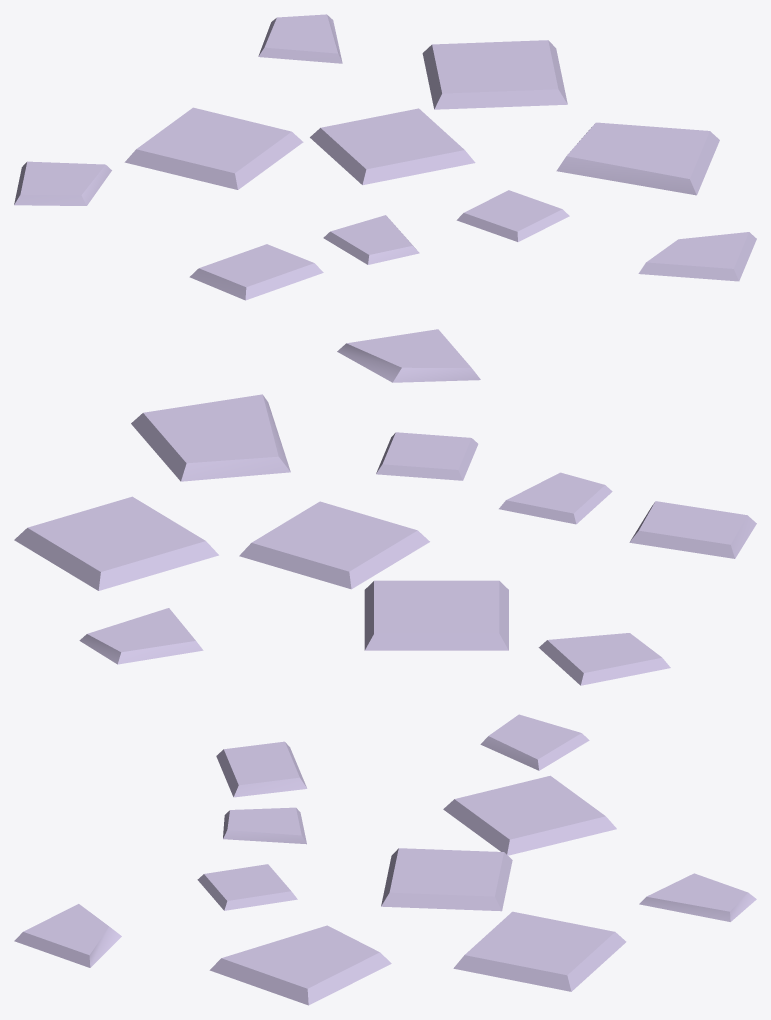
3 views of the same model, one above another, from view 1: azimuth 30°, elevation 25°; view 2: azimuth 150°, elevation 25°; view 3: azimuth 270°, elevation 25° (orthographic). The views are drawn at different scales.
Parts seen in each view (by area): view 1: Object14; view 2: Object14; view 3: Object14.
Part boxes in pixels (bbox=[...]): Object14: bbox=[14, 14, 756, 300]; Object14: bbox=[14, 329, 756, 685]; Object14: bbox=[14, 714, 756, 1005].
Bounding box in the file's own units: 425 × 8.24 × 469.
